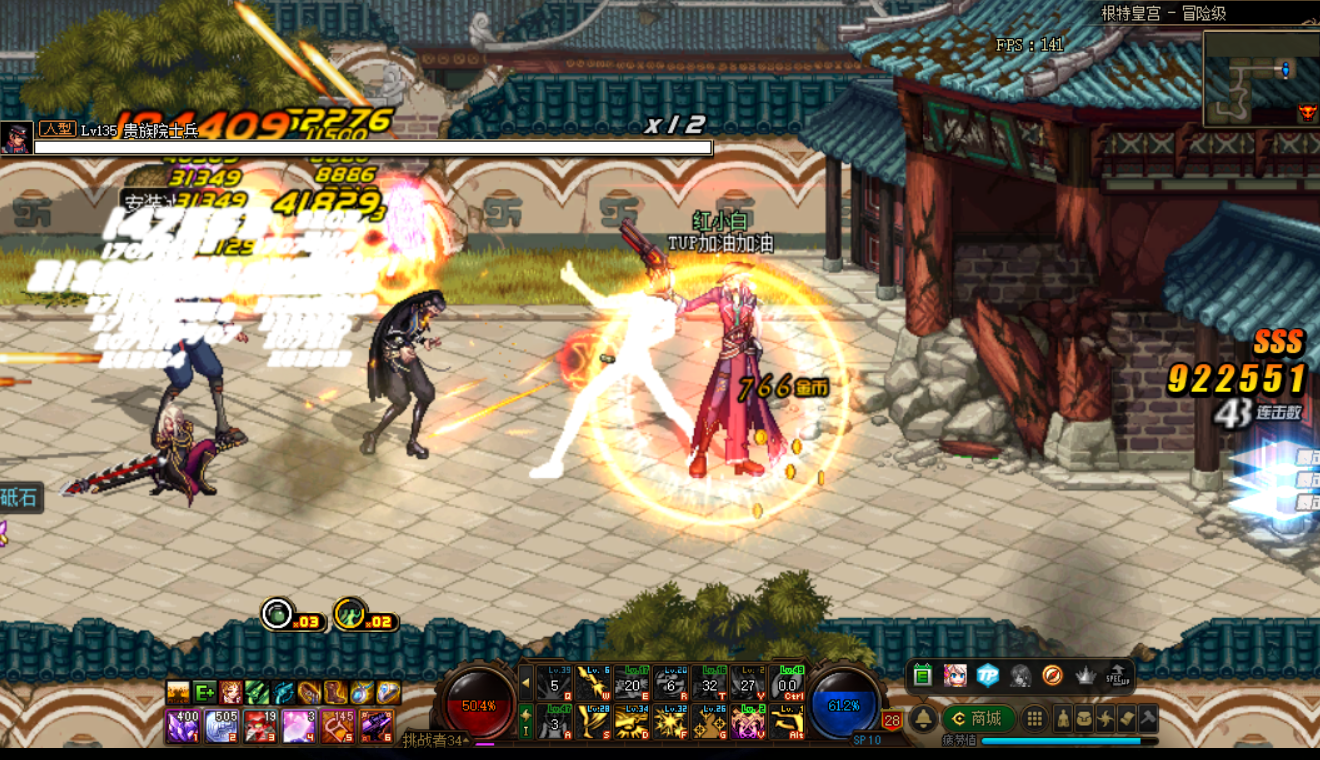monster: (158, 246, 242, 452), (361, 292, 454, 463), (74, 417, 242, 506)
warrior: (617, 223, 788, 484)
